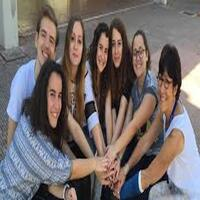person: (153, 44, 190, 121), (38, 60, 74, 135), (26, 6, 61, 65), (123, 27, 158, 86), (66, 5, 91, 71), (91, 13, 113, 81), (107, 12, 130, 73)
